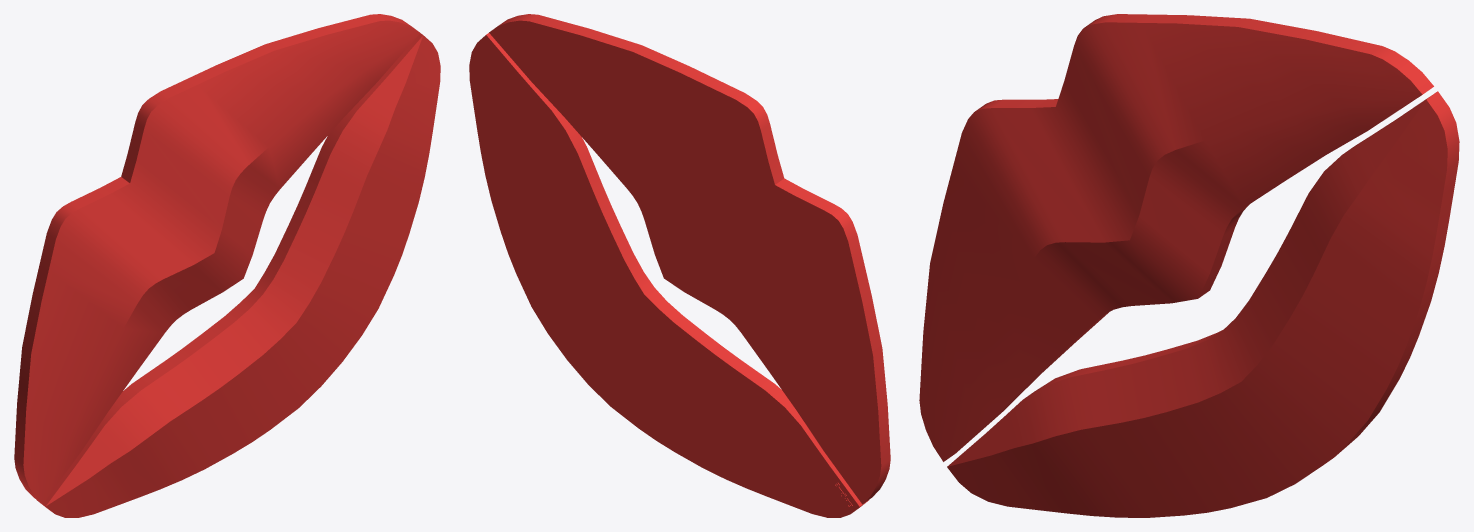
The model's file is kiss_mark.glb.
The picture shows the model from 3 angles, left to right: view 1: azimuth 30°, elevation 25°; view 2: azimuth 150°, elevation 25°; view 3: azimuth 330°, elevation 25°; orthographic projection. The views are drawn at different scales.
Parts seen in each view (by area): view 1: Kiss Mark; view 2: Kiss Mark; view 3: Kiss Mark.
Boxes of the visible parts, <box> form: Kiss Mark: <box>14,14,440,517</box>; Kiss Mark: <box>469,14,890,517</box>; Kiss Mark: <box>919,14,1459,517</box>.
Size of the model in its own units: 1.59 by 1.55 by 0.1505.
Materials: 1 (1 with a texture image).
